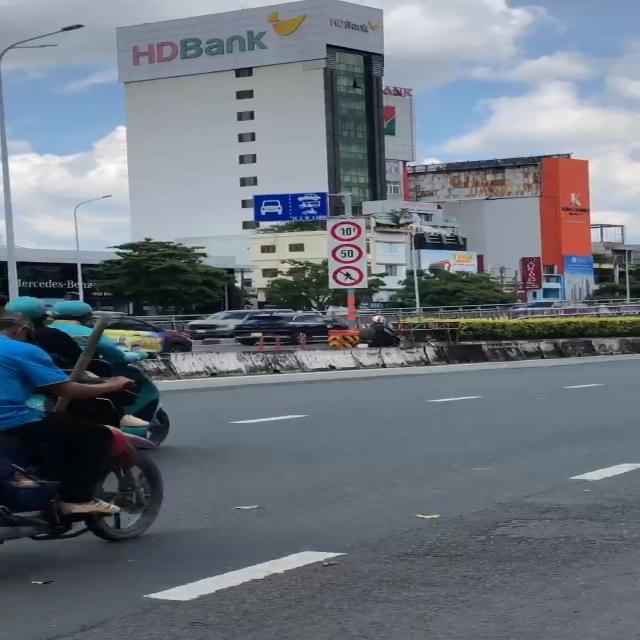Bien bao cam nguoi di bo: (330, 264, 366, 288)
Bien bao toc do toi da cho phep: (331, 243, 365, 264)
